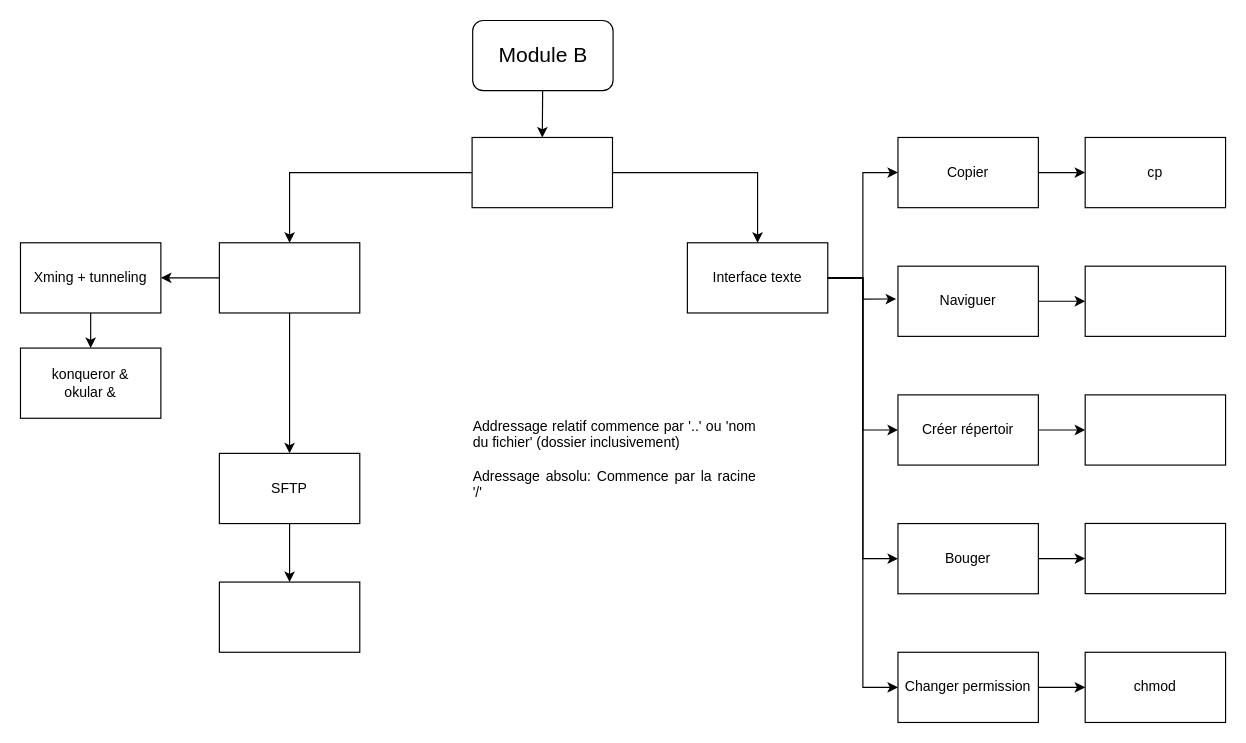
The diagram is 1246 pixels wide and 743 high, and some of its shapes have lost their labels. Here are the shapes that lost their labels. From the top down, the centre of each, then its label:
At [541,172]: "Connection SSH à serveur Linux".
At [289,277]: "Interface graphique".
At [1155,300]: "cd".
At [1155,429]: "mkdir".
At [1155,558]: "mv".
At [289,616]: "Changer, bouger, créer, permission, etc.".
